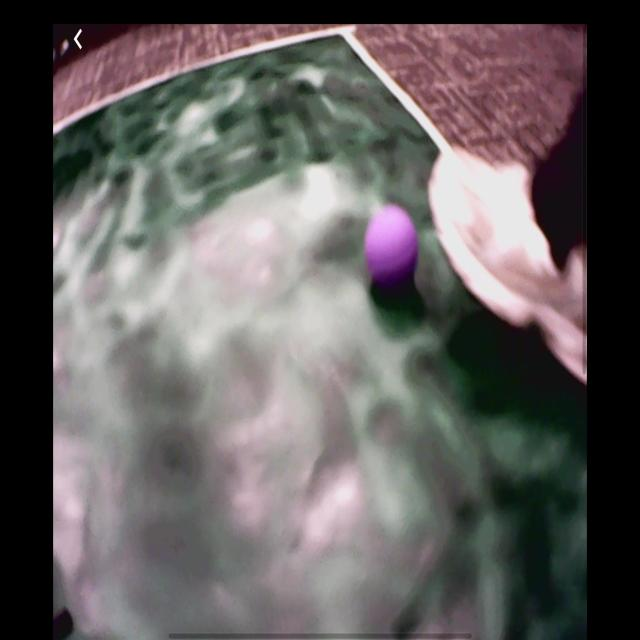ball: (367, 212, 418, 283)
